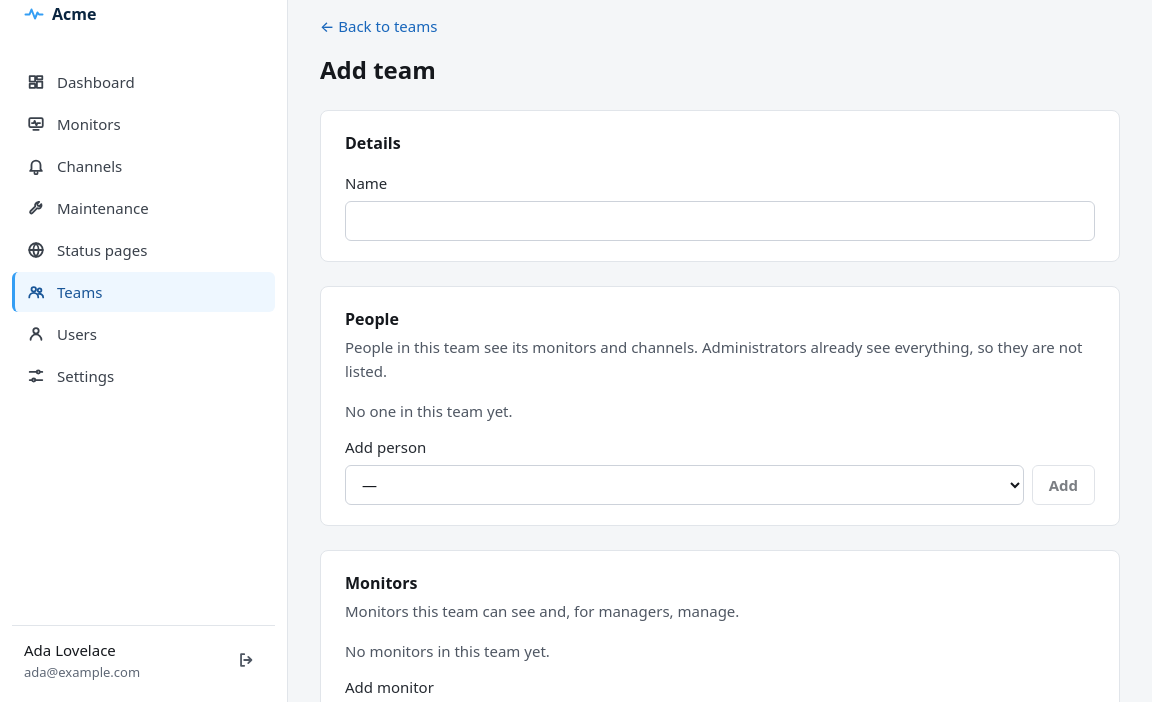
Teams pages › creates a team with people and monitors and opens it
In the field labelled "Name": (720, 221) x1=345 y1=201 x2=1095 y2=241, type "  Commerce "
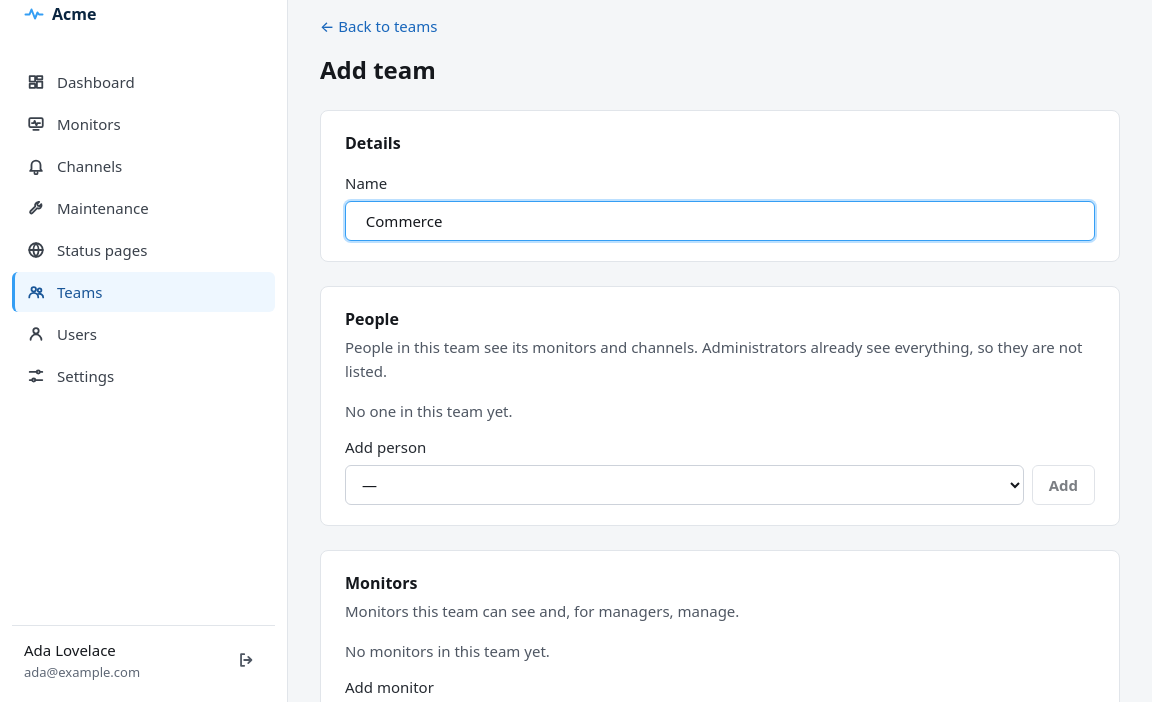
Select "Grace Hopper (grace@example.com)" in the dropdown labelled "Add person": (684, 485) x1=345 y1=465 x2=1024 y2=505
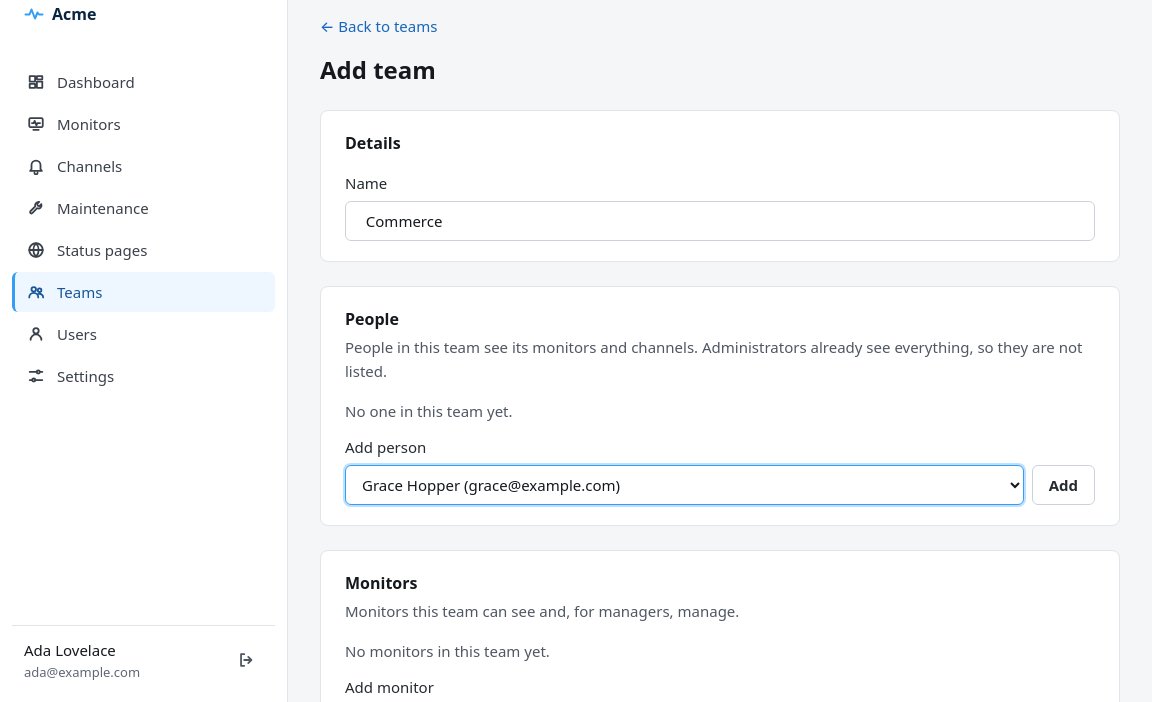
Click the button "Add": (1063, 485) x1=1032 y1=465 x2=1095 y2=505
(page scrolled)
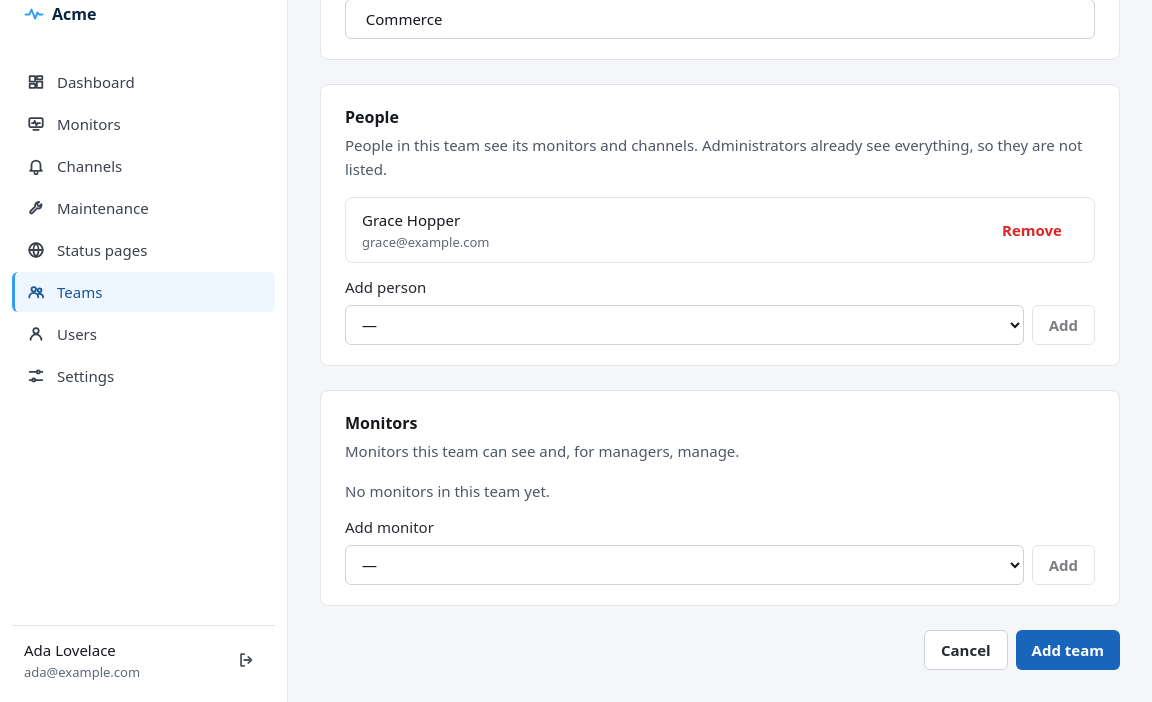
Select "Blog" in the dropdown labelled "Add monitor": (684, 565) x1=345 y1=545 x2=1024 y2=585
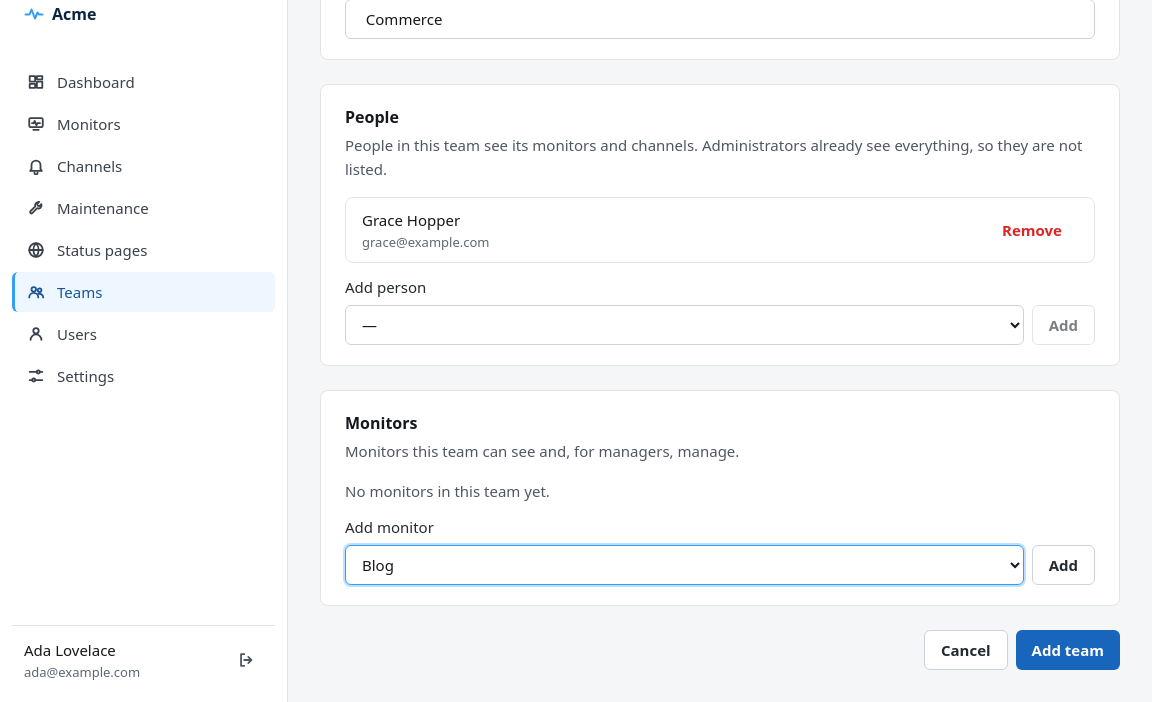
Click the 2nd button "Add": (1063, 565) x1=1032 y1=545 x2=1095 y2=585
(page scrolled)
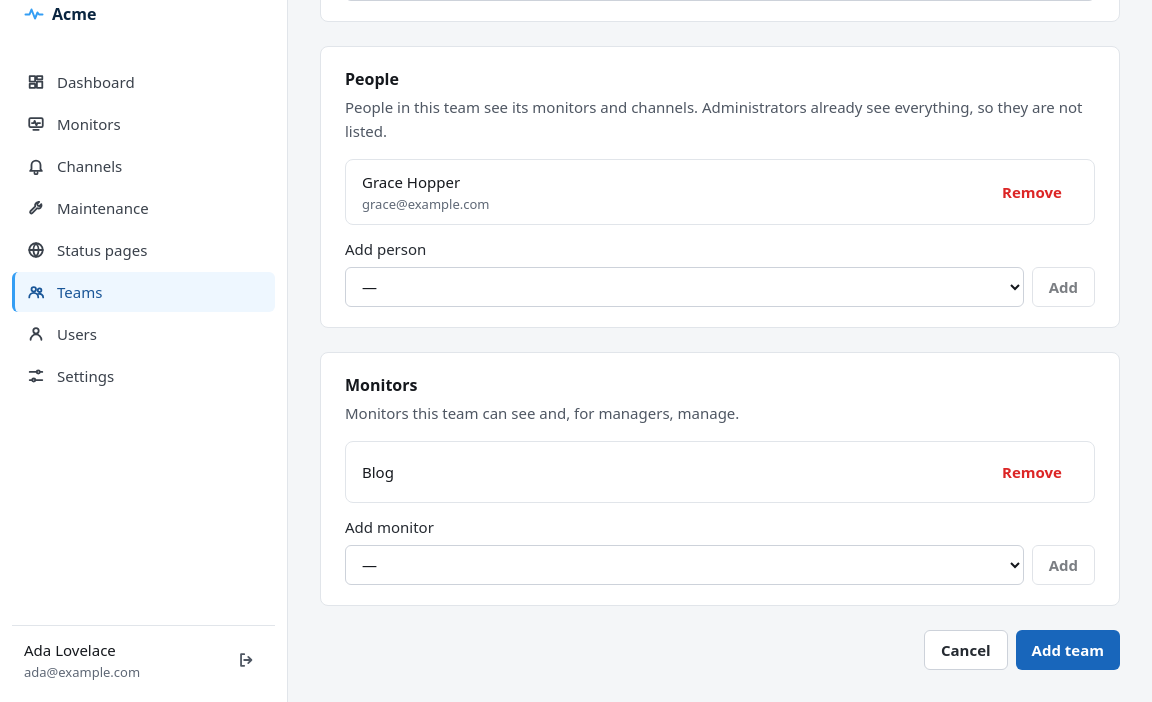
Click the button "Add team": (1068, 650) x1=1016 y1=630 x2=1120 y2=670
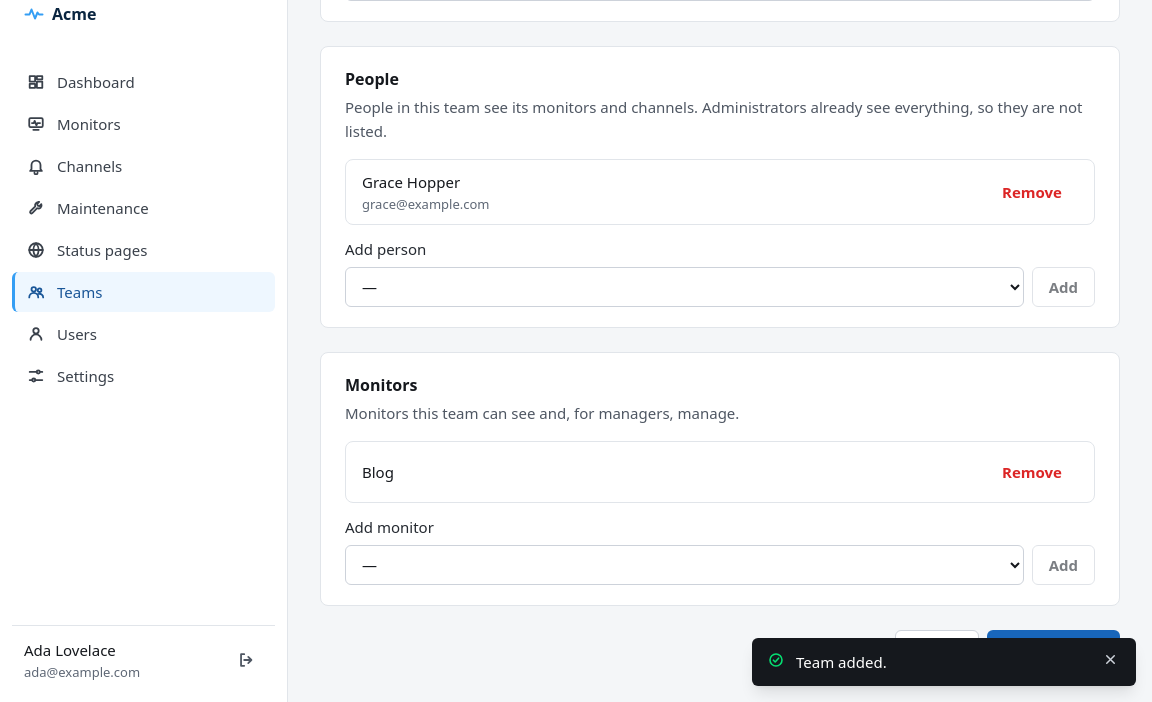
Check: the text "Team added." is shown, box x1=796 y1=652 x2=887 y2=672
